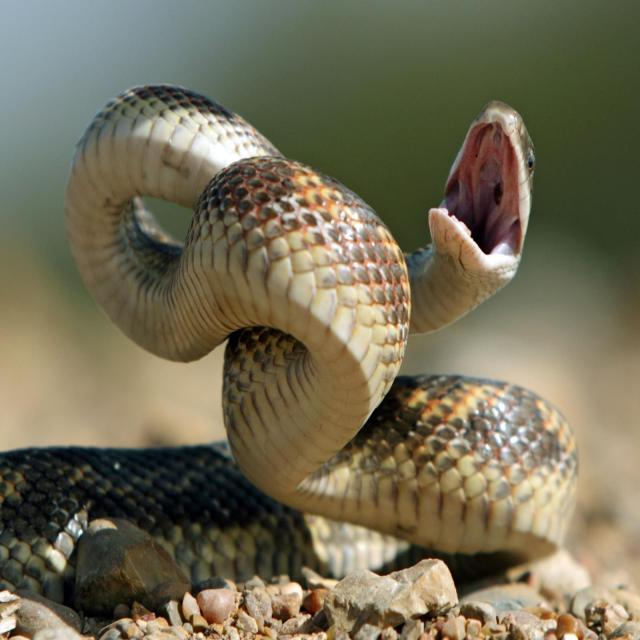Snake: (58, 72, 585, 594)
